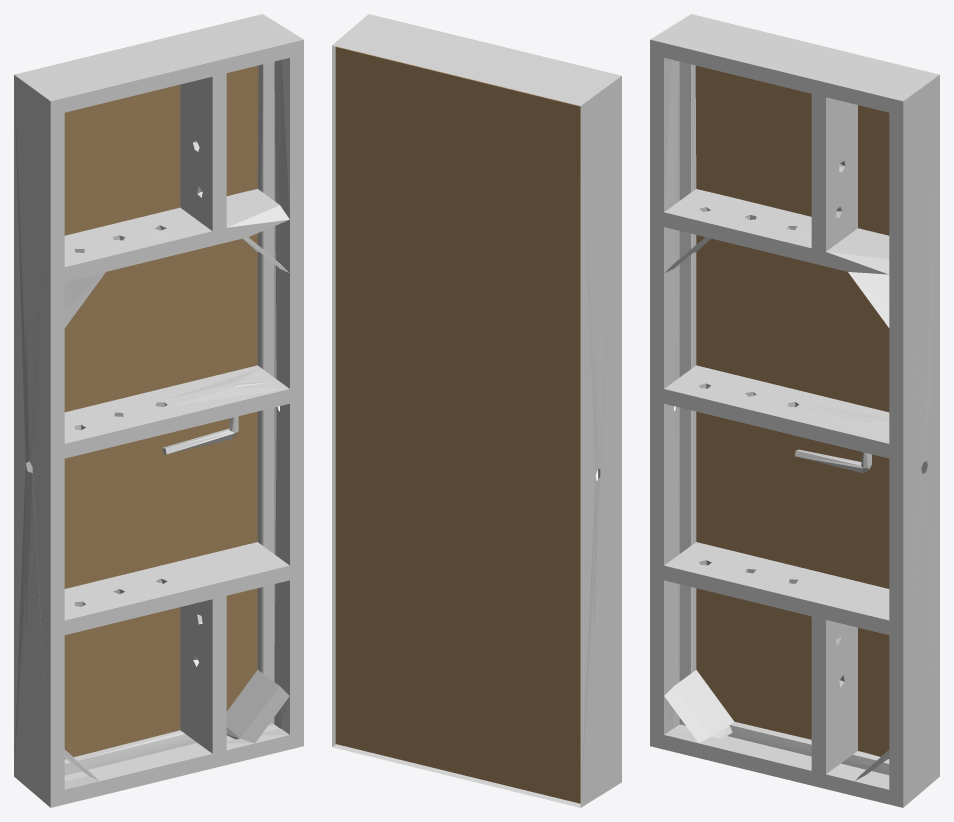
The picture shows the model from 3 angles, left to right: view 1: azimuth 30°, elevation 25°; view 2: azimuth 150°, elevation 25°; view 3: azimuth 330°, elevation 25°; orthographic projection.
Visible parts, largest first — view 1: 12454212; view 2: 12454212; view 3: 12454212.
Boxes of the visible parts, <box> form: 12454212: <box>14,14,303,807</box>; 12454212: <box>332,14,621,807</box>; 12454212: <box>650,14,939,807</box>.
Size of the model in its own units: 0.45 by 1.2 by 0.12.
